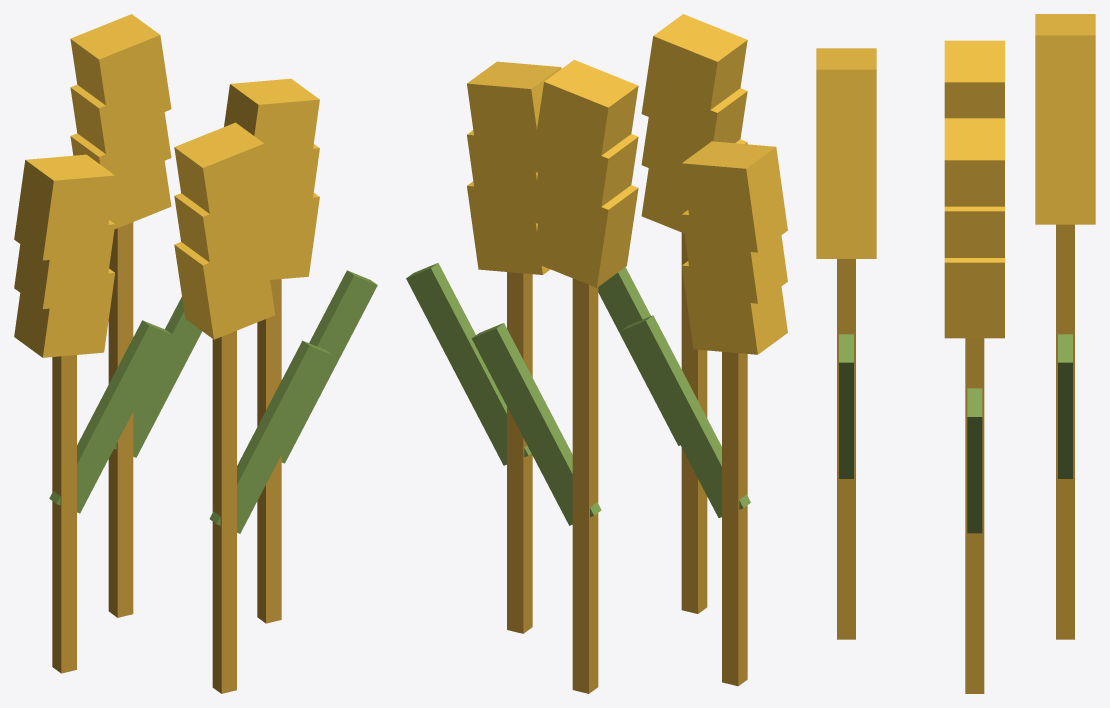
Rendered from wheat_cluster.glb.
3 views of the same model, side by side, from view 1: azimuth 30°, elevation 25°; view 2: azimuth 150°, elevation 25°; view 3: azimuth 270°, elevation 25° (orthographic). The views are drawn at different scales.
Visible parts, largest first — view 1: body__yellow2.001, body__hay, body__leaf2.002; view 2: body__yellow2.001, body__hay, body__leaf2.002; view 3: body__yellow2.001, body__hay, body__leaf2.002.
Boxes of the visible parts, bbox=[...] form: body__yellow2.001: bbox=[14, 14, 319, 357]; body__hay: bbox=[52, 222, 281, 693]; body__leaf2.002: bbox=[49, 270, 377, 533]; body__yellow2.001: bbox=[467, 14, 787, 354]; body__hay: bbox=[507, 232, 747, 693]; body__leaf2.002: bbox=[406, 263, 750, 525]; body__yellow2.001: bbox=[816, 14, 1095, 338]; body__hay: bbox=[837, 224, 1074, 693]; body__leaf2.002: bbox=[839, 334, 1072, 533].
Bounding box in the file's own units: 0.5575 × 0.8968 × 0.37.
